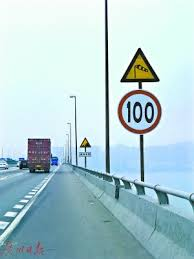Speed_limit_100km: (118, 90, 162, 135)
